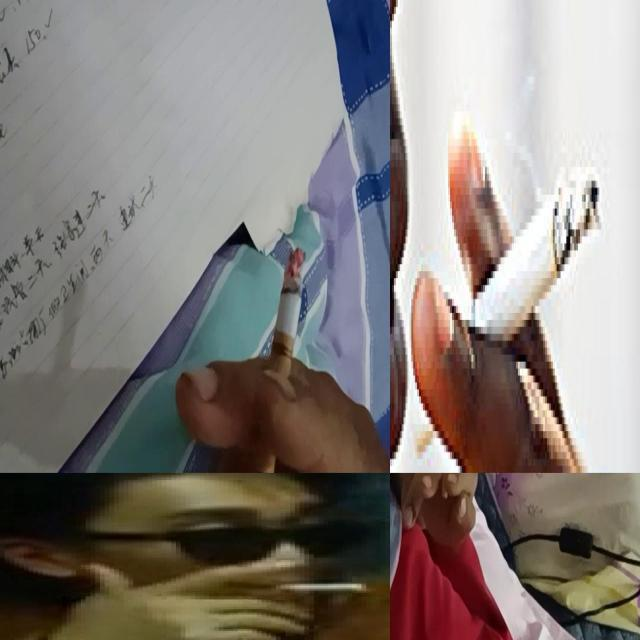smoking: (412, 166, 602, 462), (252, 247, 307, 472), (264, 582, 366, 593), (440, 472, 454, 500)
